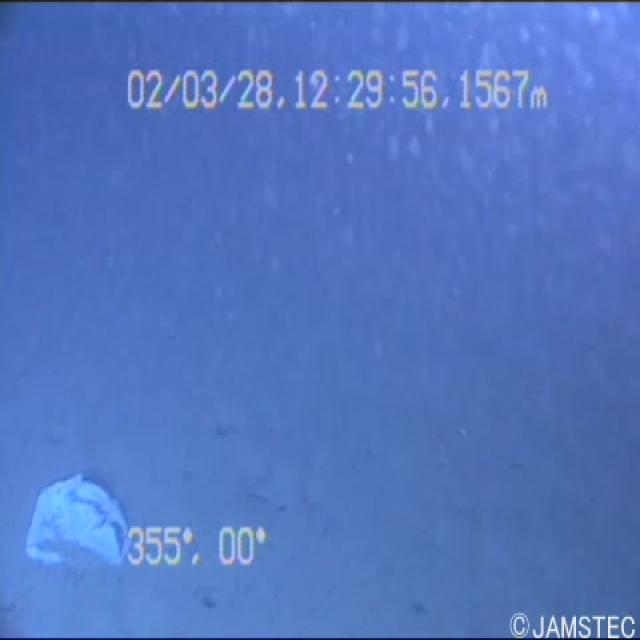plastic: (11, 450, 144, 585)
